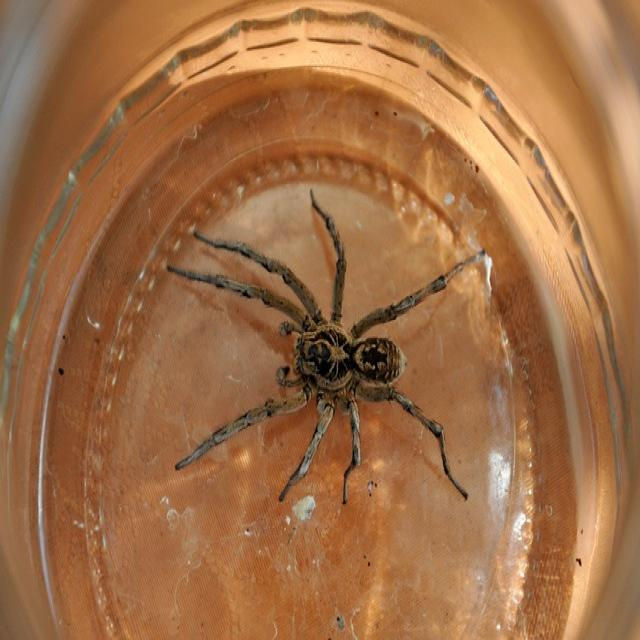spyder: (168, 191, 489, 502)
